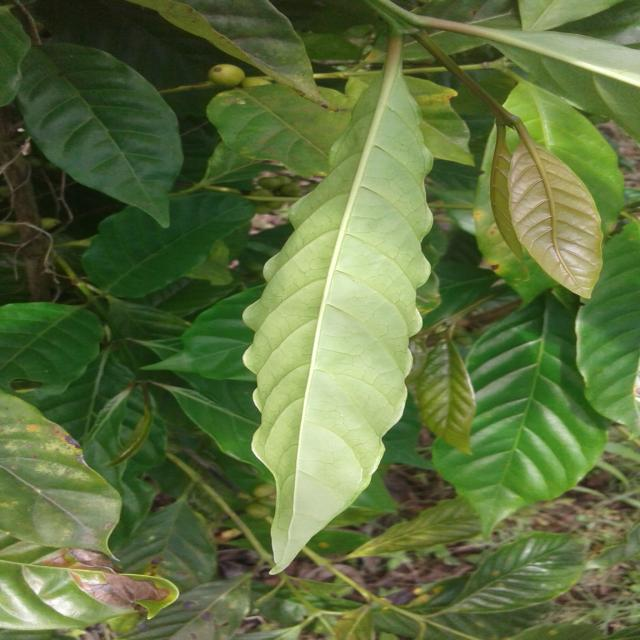Sanas: (254, 35, 432, 572)
